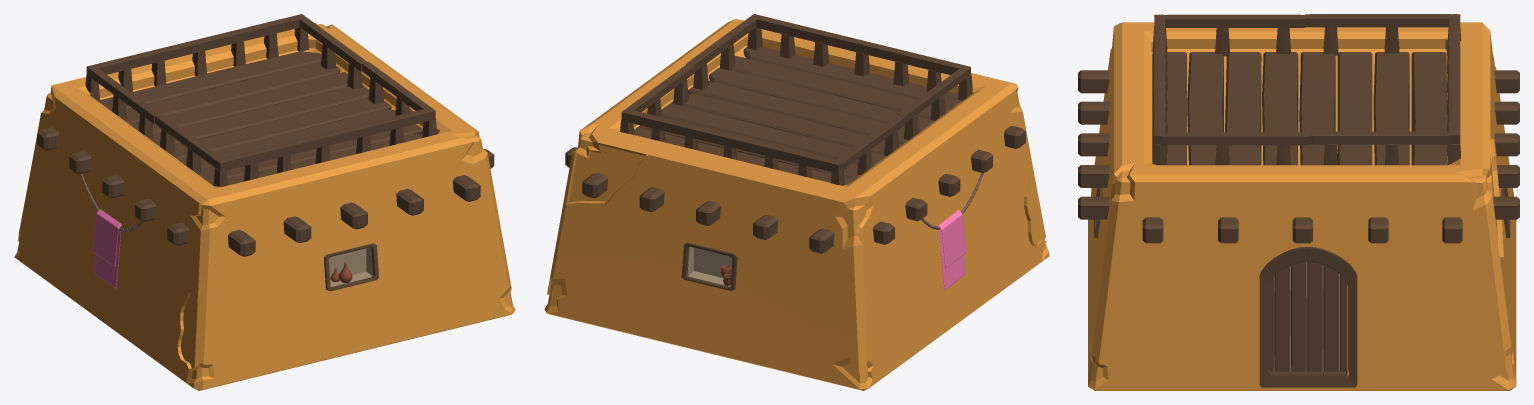
File: HOUSE03.fbx
The picture shows the model from 3 angles, left to right: view 1: azimuth 30°, elevation 25°; view 2: azimuth 150°, elevation 25°; view 3: azimuth 270°, elevation 25°; orthographic projection. The views are drawn at different scales.
Parts seen in each view (by area): view 1: ev6; view 2: ev6; view 3: ev6.
Part boxes in pixels (box(x1,y1,x2,y2)): ev6: box(14, 14, 515, 390); ev6: box(544, 14, 1049, 390); ev6: box(1078, 14, 1519, 390).
Bounding box in the file's own units: 1.15 × 0.6687 × 1.18.
